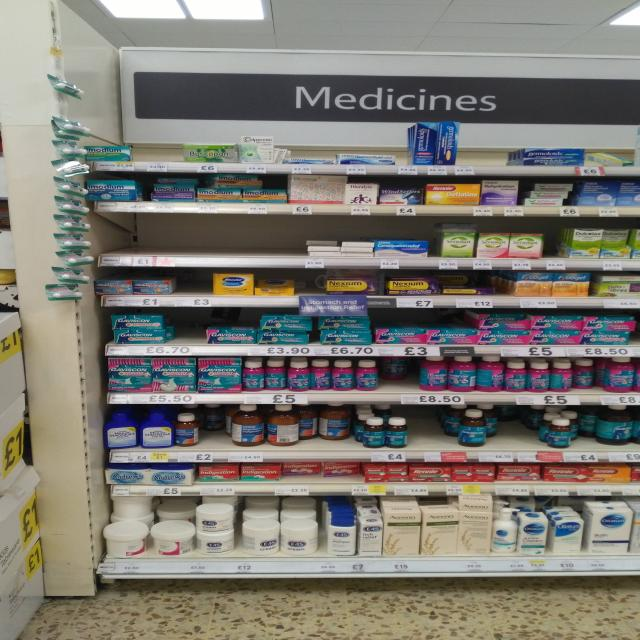void: (204, 215, 242, 267), (139, 122, 178, 172), (411, 408, 444, 462), (244, 217, 278, 267), (169, 218, 201, 268), (100, 219, 134, 265), (170, 309, 204, 355), (135, 218, 166, 266), (489, 120, 516, 175), (461, 121, 487, 176), (279, 220, 305, 268)
